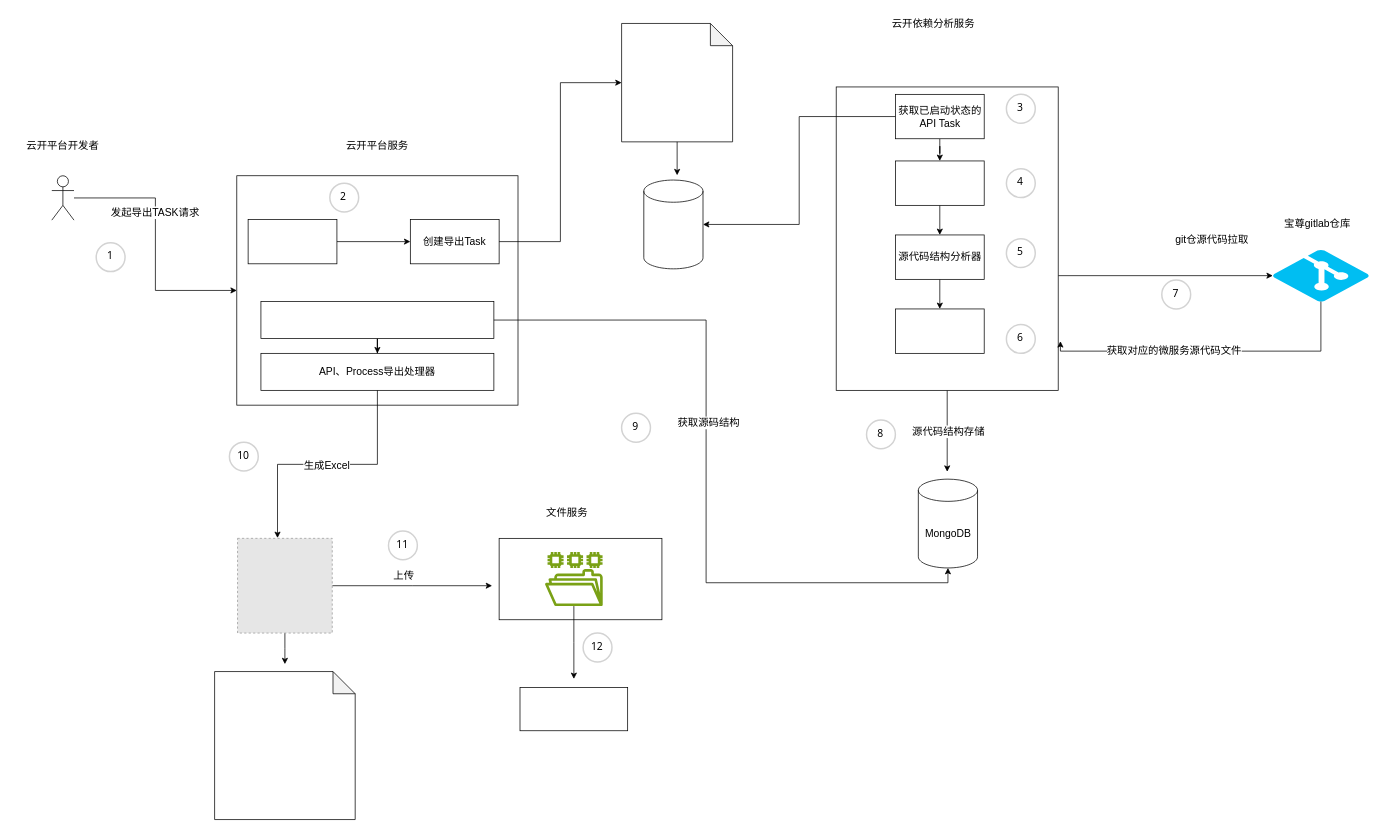
This 1382x833 diagram has some shape labels left out. Grey dashed boxes stand in for pictures. Each missing label, with the centre of its shape:
Actor: point (62, 197)
API导出: point (292, 241)
MySQL: point (673, 224)
task结构{ ...... git project url git branch ...... }: point (677, 82)
下载微服务Excel结构: point (573, 709)
应用基本信息 模块 微服务信息 API信息 API请求体 API响应体 API依赖信息: point (284, 745)
更新导出Task状态为已完成: point (939, 330)
更新导出Task状态为进行中: point (939, 182)
源码结构API、Process等解析器: point (377, 320)
